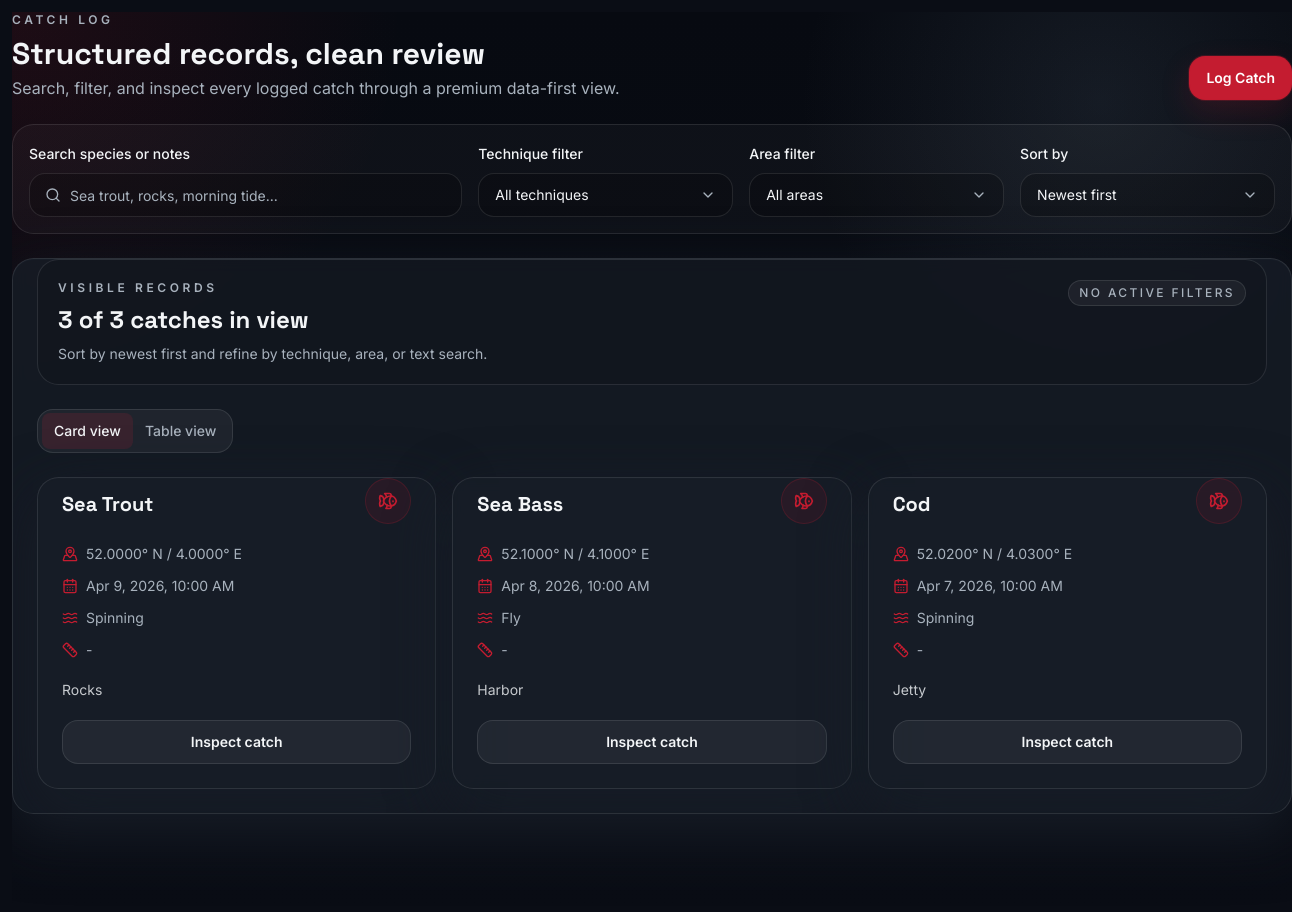
Test: CatchLogPage › sorts catches alphabetically by species
This screenshot has width=1292, height=912.
Click the dropdown named "Sort catches" at (1148, 195), box [1020,173,1275,217]
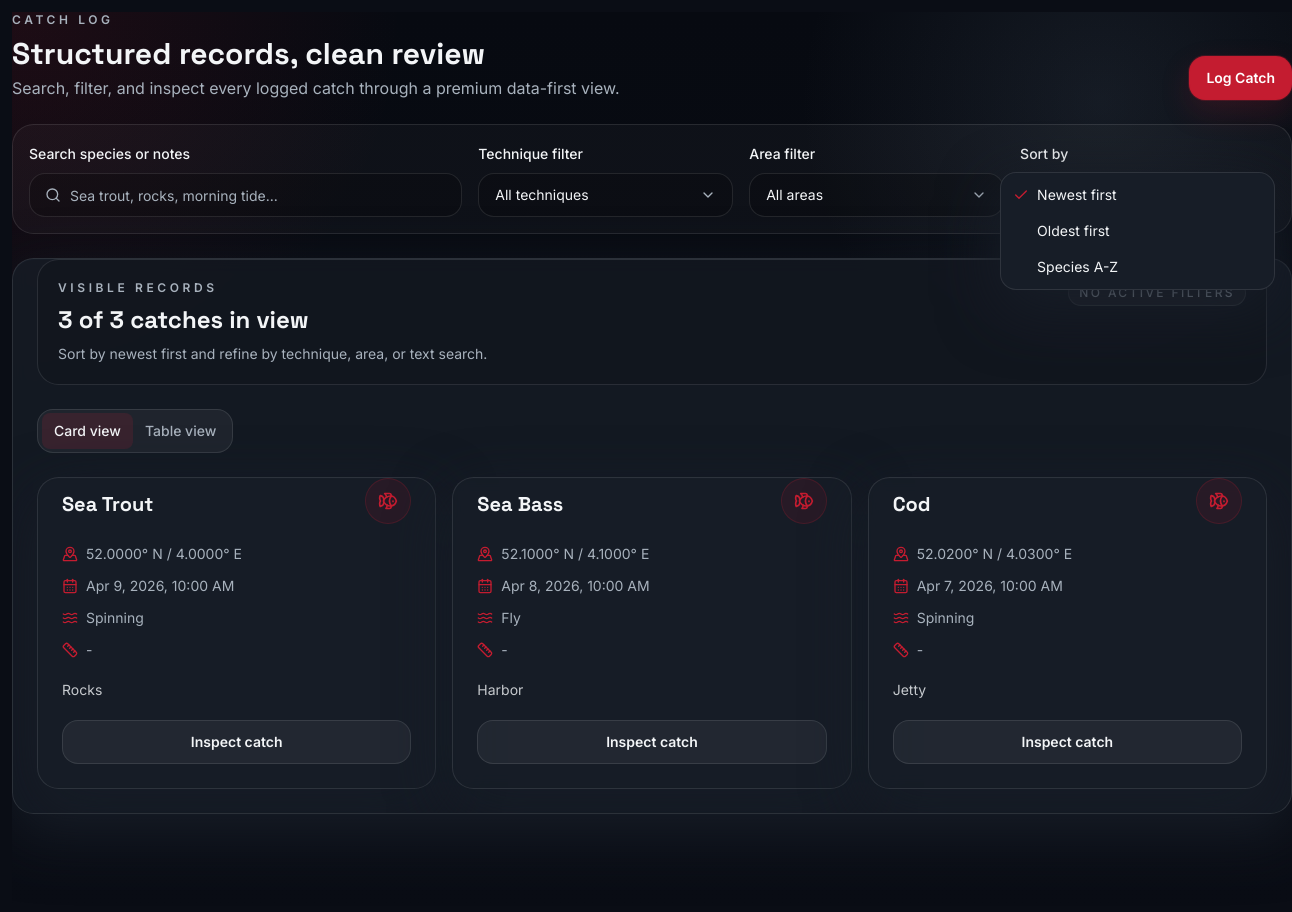
Click the option "Species A-Z" at (1078, 266), box [1037,258,1118,275]
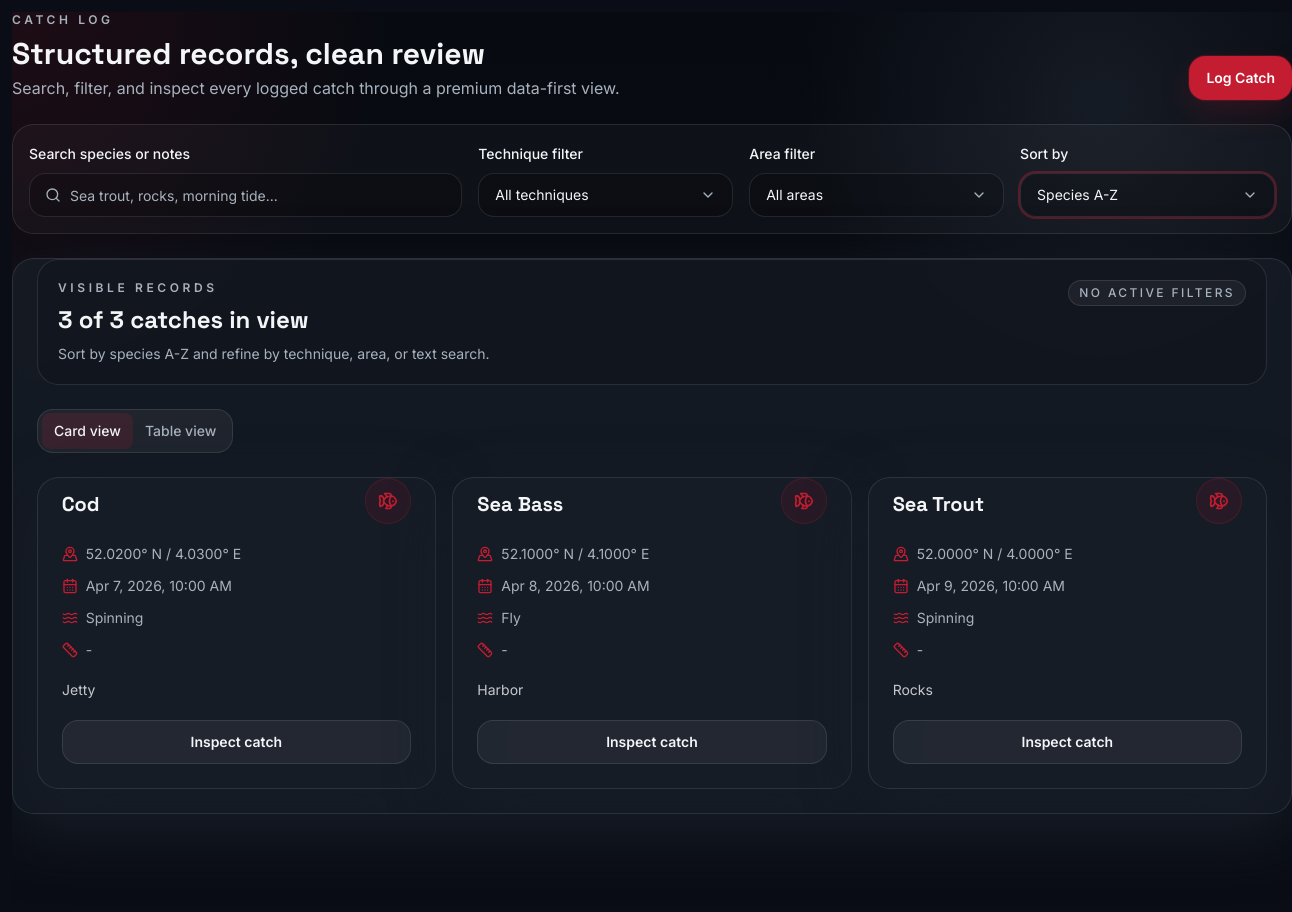
Check: the headings read "Cod", "Sea Bass", "Sea Trout", in this order, box [62,490,100,518]; [477,490,563,518]; [893,490,984,518]
